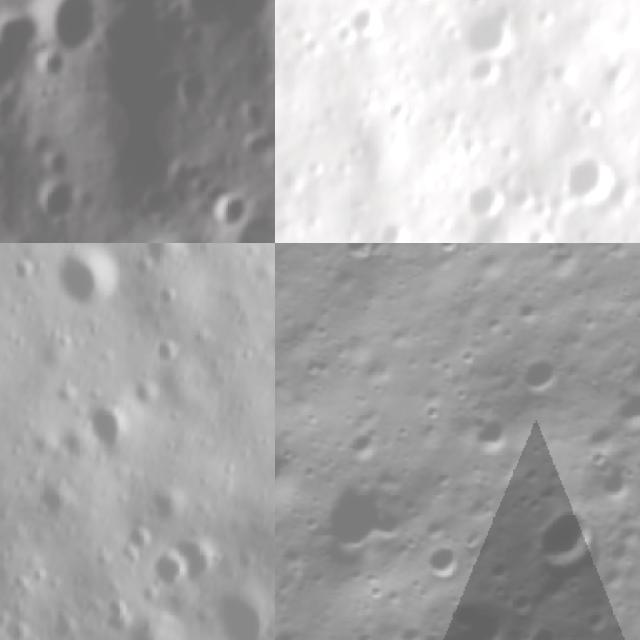crater: (297, 462, 422, 586), (522, 491, 623, 592), (49, 245, 125, 318), (438, 581, 521, 640), (554, 147, 624, 210), (24, 0, 104, 53), (509, 343, 574, 408), (80, 398, 144, 462), (458, 0, 518, 62), (463, 406, 525, 466), (0, 0, 37, 96), (275, 427, 314, 518), (211, 592, 275, 640), (587, 454, 640, 511), (452, 168, 503, 226), (425, 535, 478, 588), (179, 0, 275, 27), (342, 416, 391, 467), (142, 546, 192, 594), (180, 538, 228, 588), (38, 176, 84, 227), (335, 0, 391, 36), (579, 598, 625, 640), (228, 205, 275, 243), (614, 374, 640, 439), (154, 329, 191, 371), (140, 243, 191, 273), (212, 187, 252, 224), (334, 243, 388, 270), (95, 602, 136, 636), (428, 243, 477, 271), (34, 48, 68, 88), (419, 395, 455, 431), (524, 615, 571, 640), (41, 148, 72, 179), (48, 615, 85, 640), (149, 229, 214, 243), (0, 620, 40, 640), (260, 144, 275, 181)
